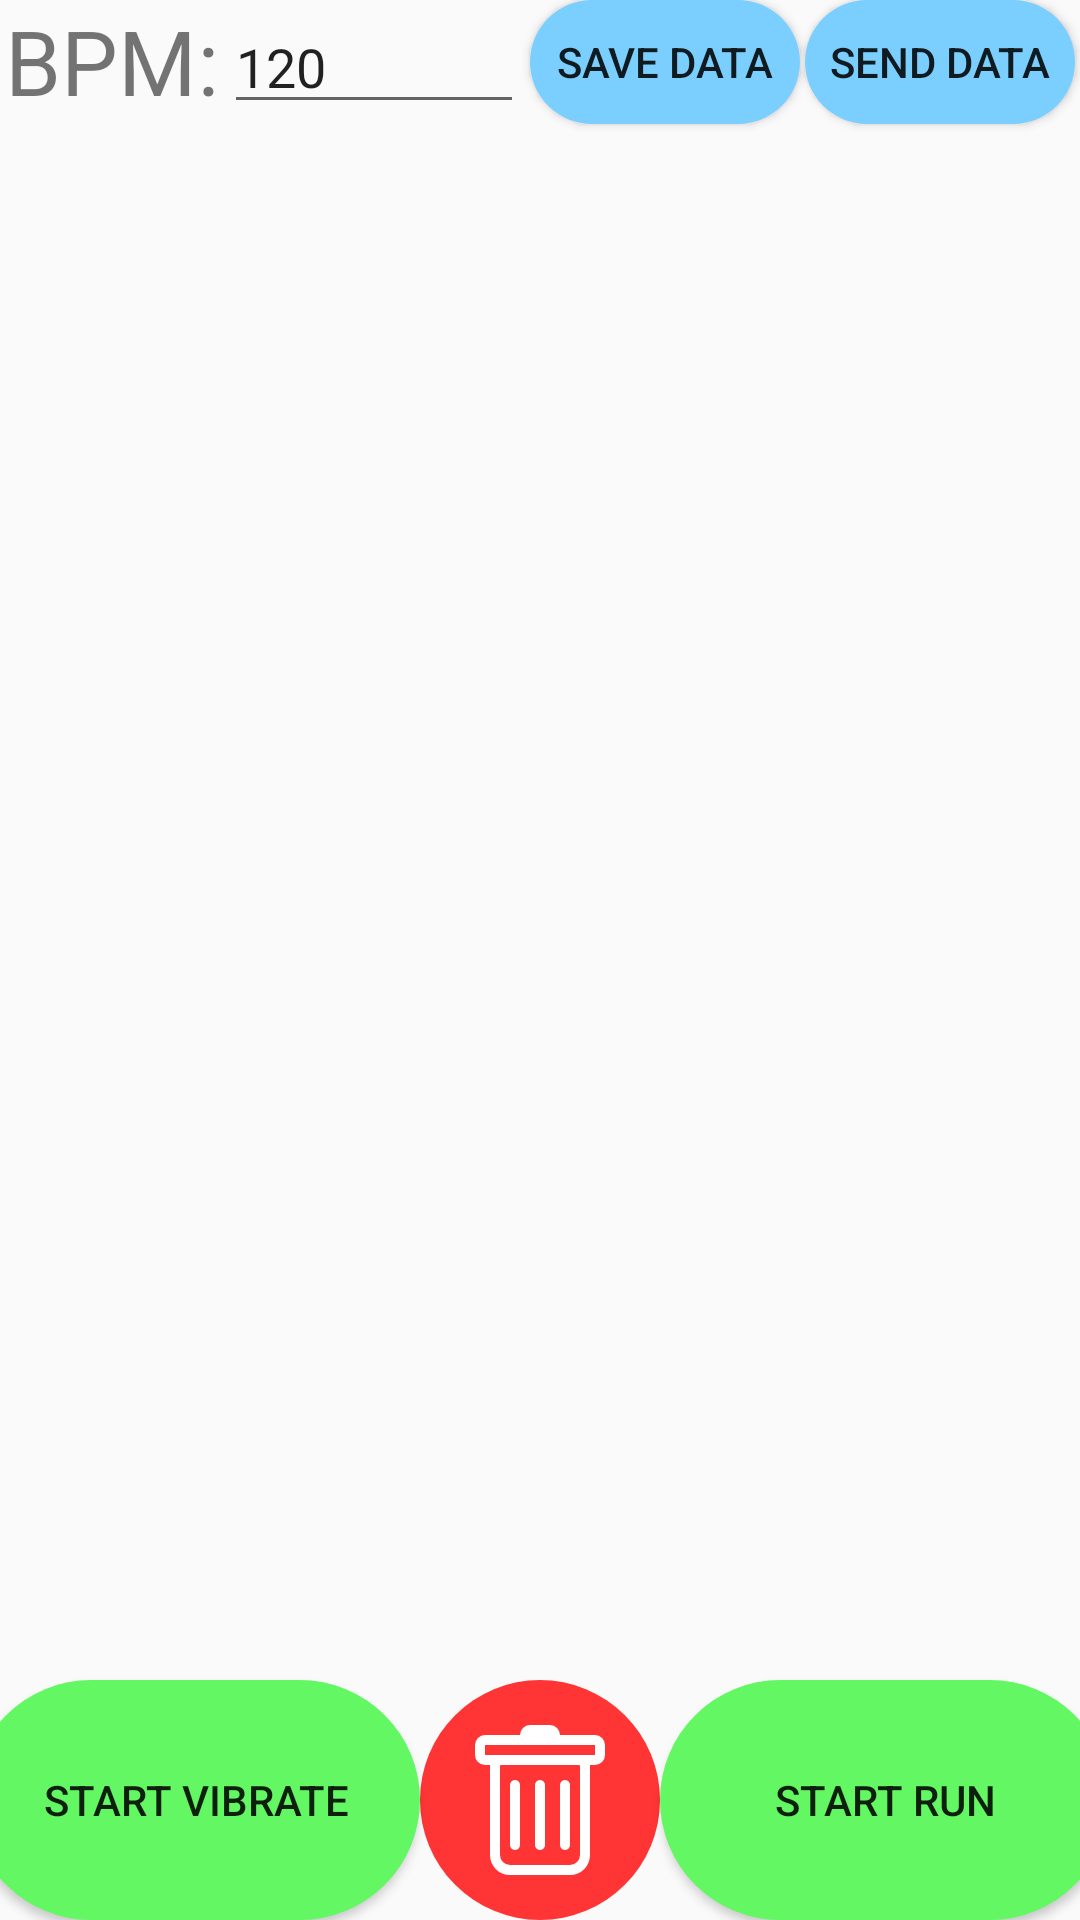

Where to tap for icons on this 1080 × 1920 app screen, as (x=x, y=y):
Trash the Pace Data: (x=540, y=1800)
